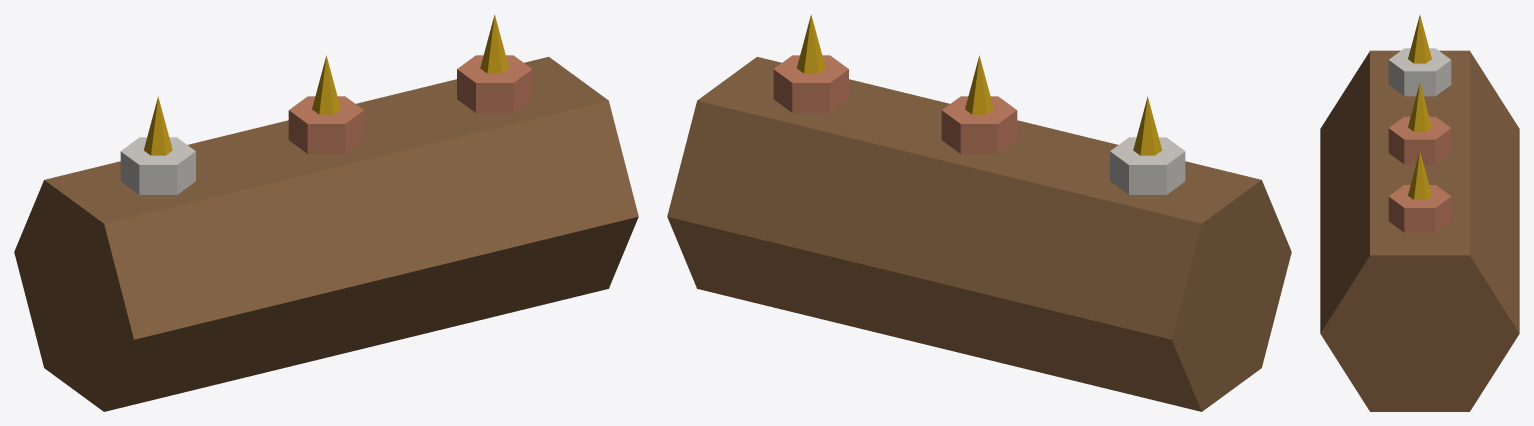
The model's file is candle-holder-18.glb.
3 views of the same model, side by side, from view 1: azimuth 30°, elevation 25°; view 2: azimuth 150°, elevation 25°; view 3: azimuth 270°, elevation 25° (orthographic). The views are drawn at different scales.
Parts seen in each view (by area): view 1: candle_holder_18; view 2: candle_holder_18; view 3: candle_holder_18.
Boxes of the visible parts, x1,y1,x2,y2 form: candle_holder_18: [14, 14, 638, 411]; candle_holder_18: [667, 14, 1291, 411]; candle_holder_18: [1320, 15, 1519, 411].
Size of the model in its own units: 0.3403 by 0.1761 by 0.14.
